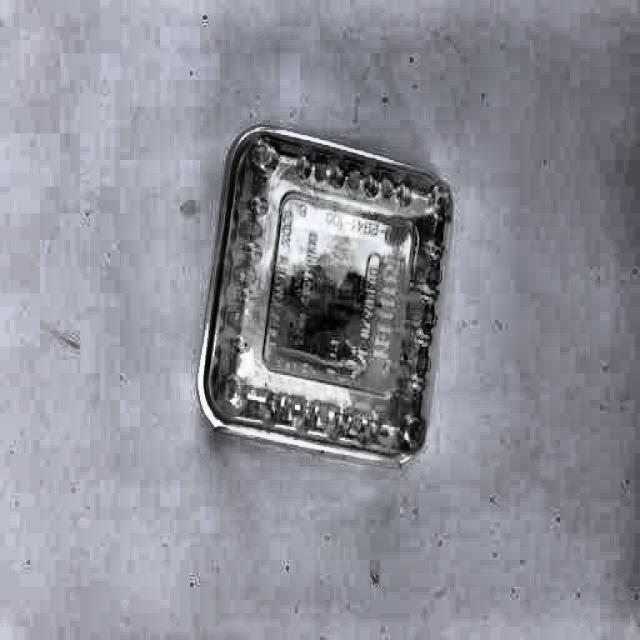plastic: (201, 122, 449, 466)
